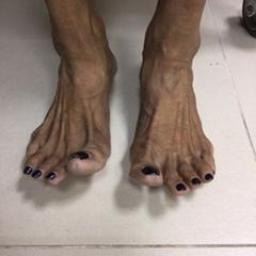Front View -Both Feet-: (12, 4, 225, 214)
